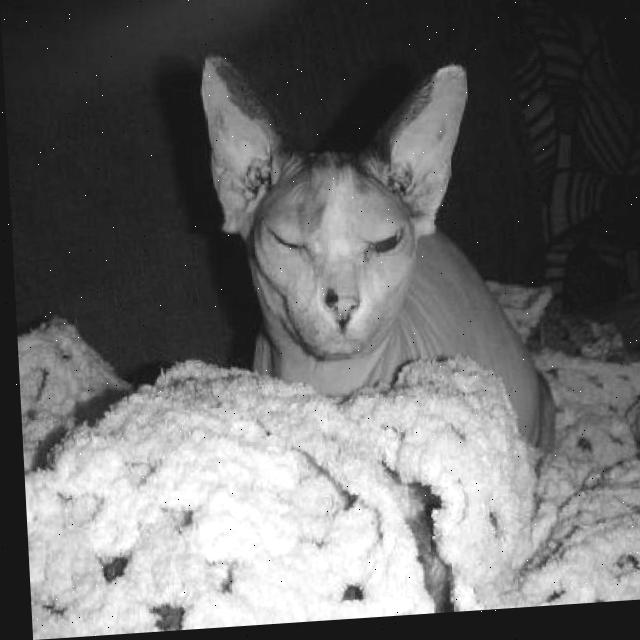Cat: (196, 32, 555, 477)
